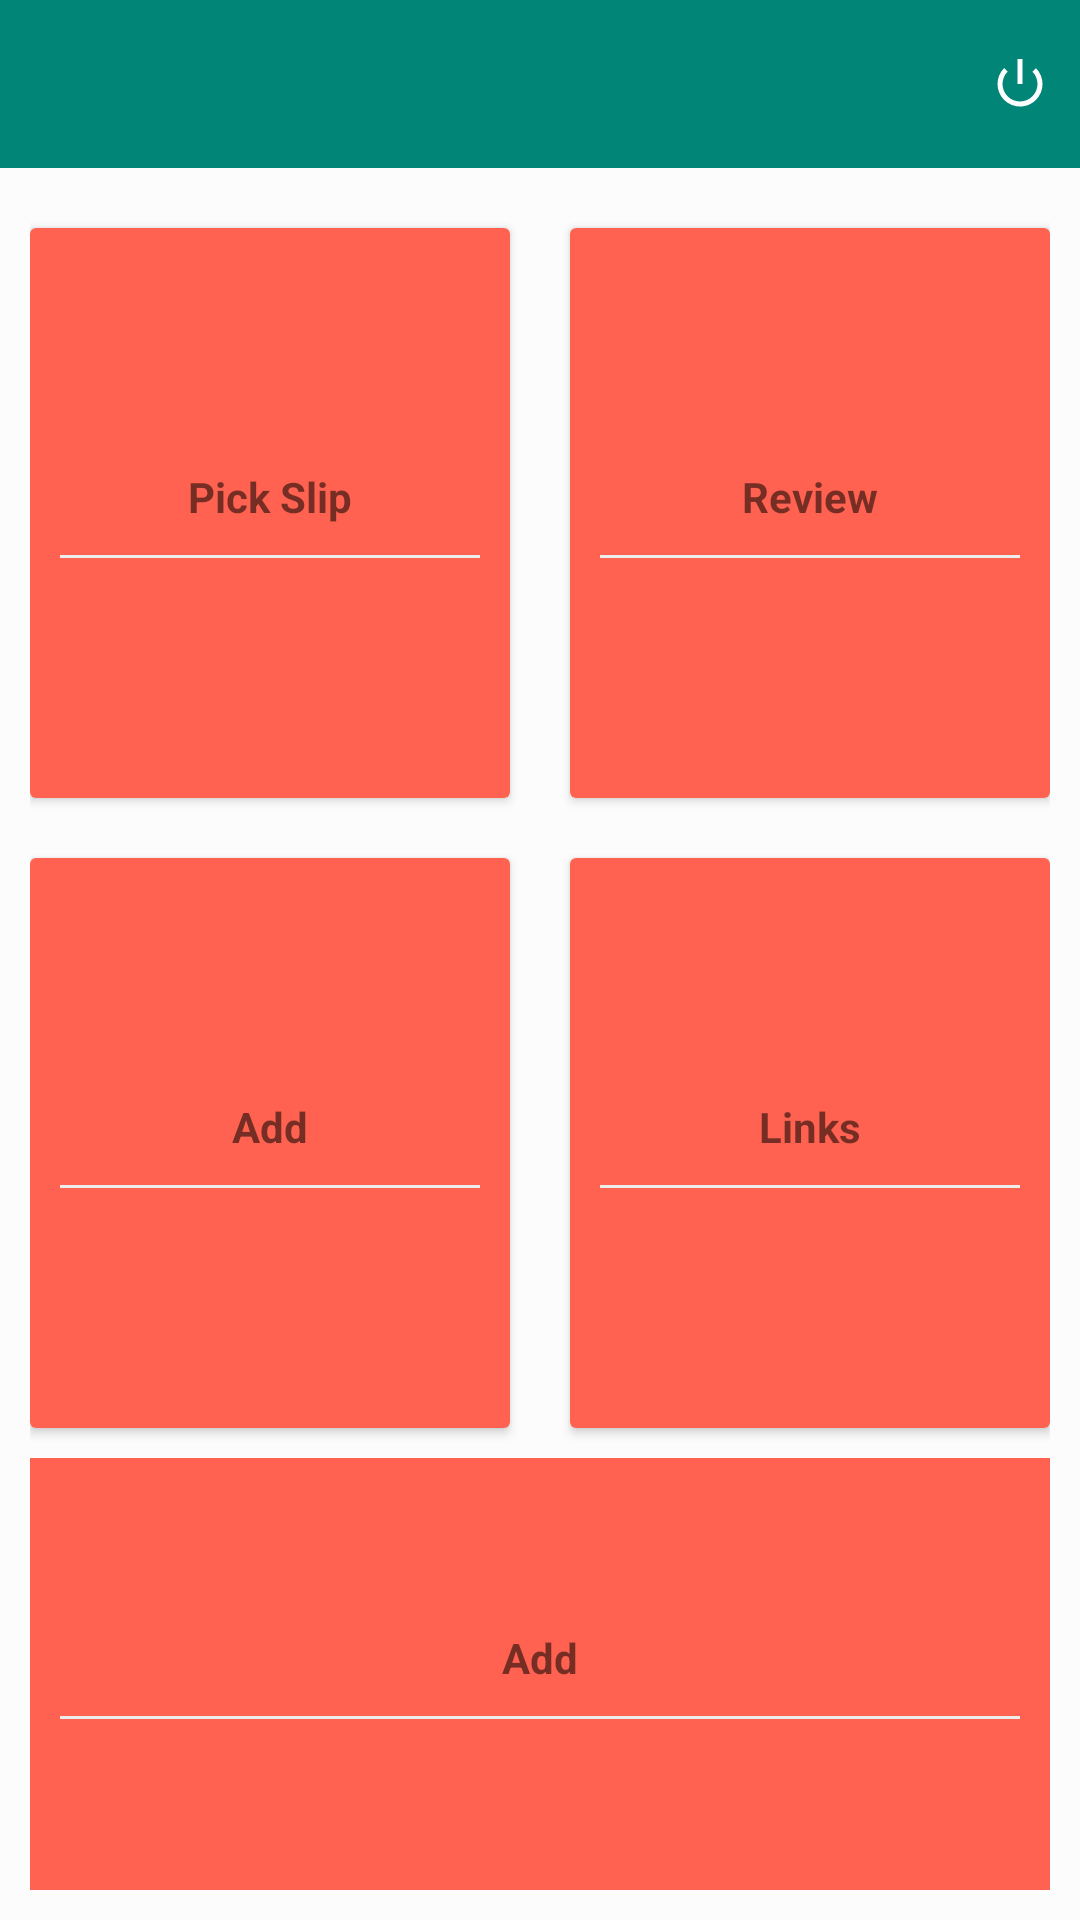

Icon click points for this 1080*1920 phone screenshot, format [x,y]:
lock power off: [1020,83]
